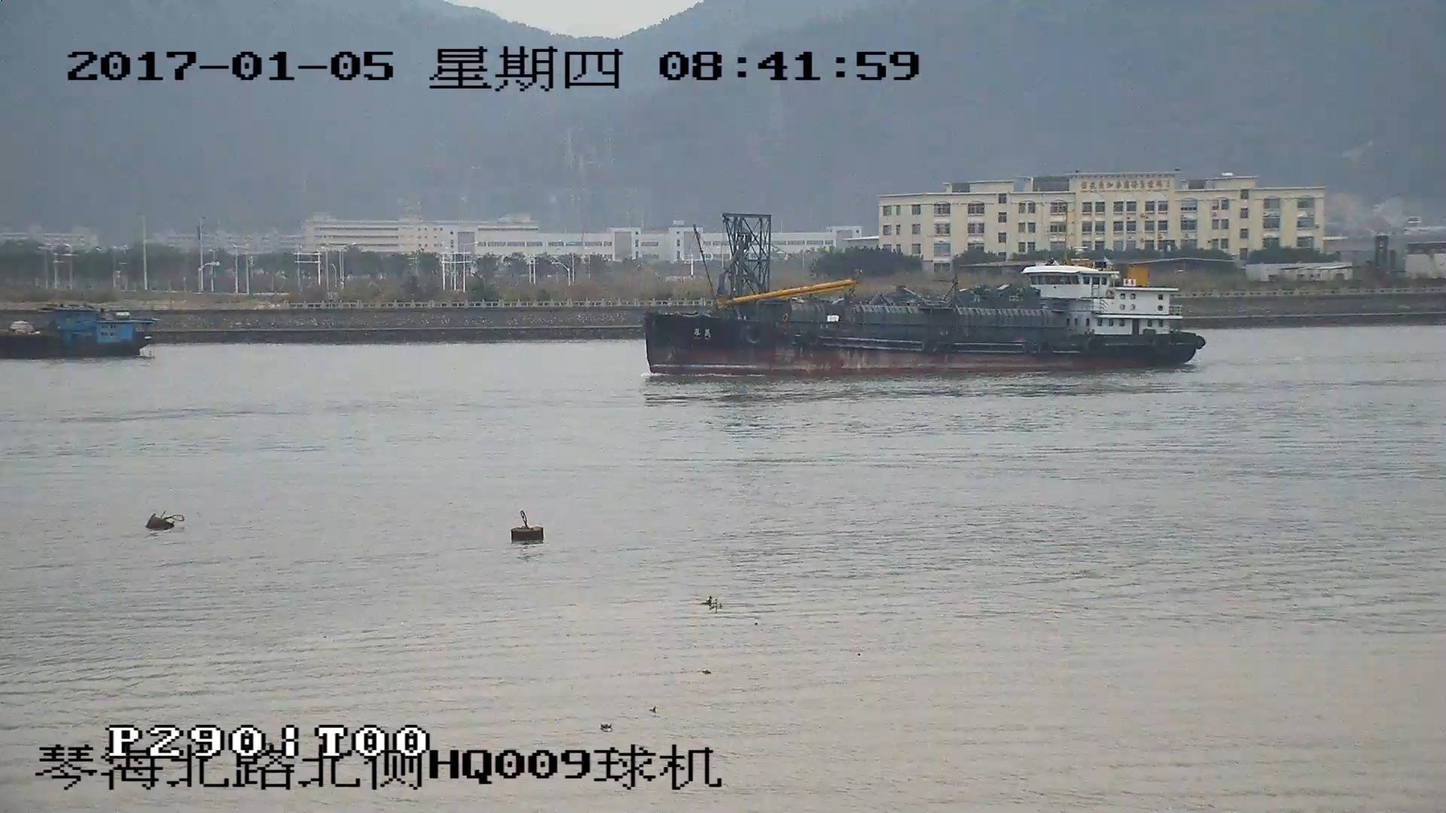bulk cargo carrier: (652, 218, 1202, 386)
